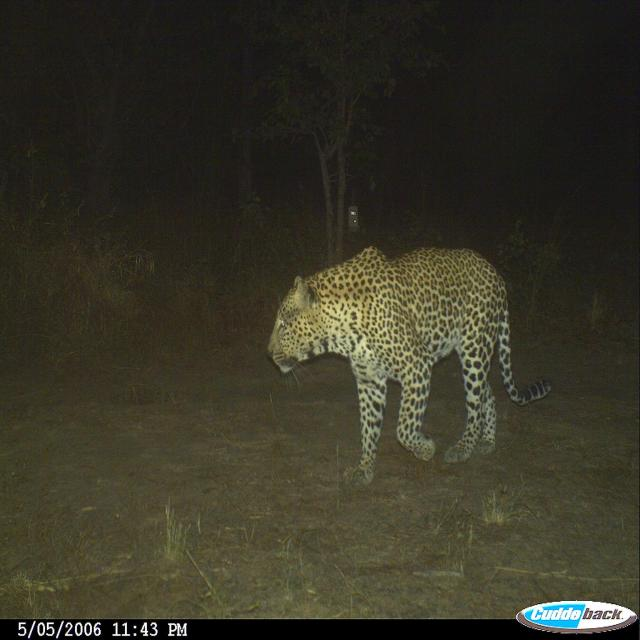Leopard: (262, 240, 552, 482)
